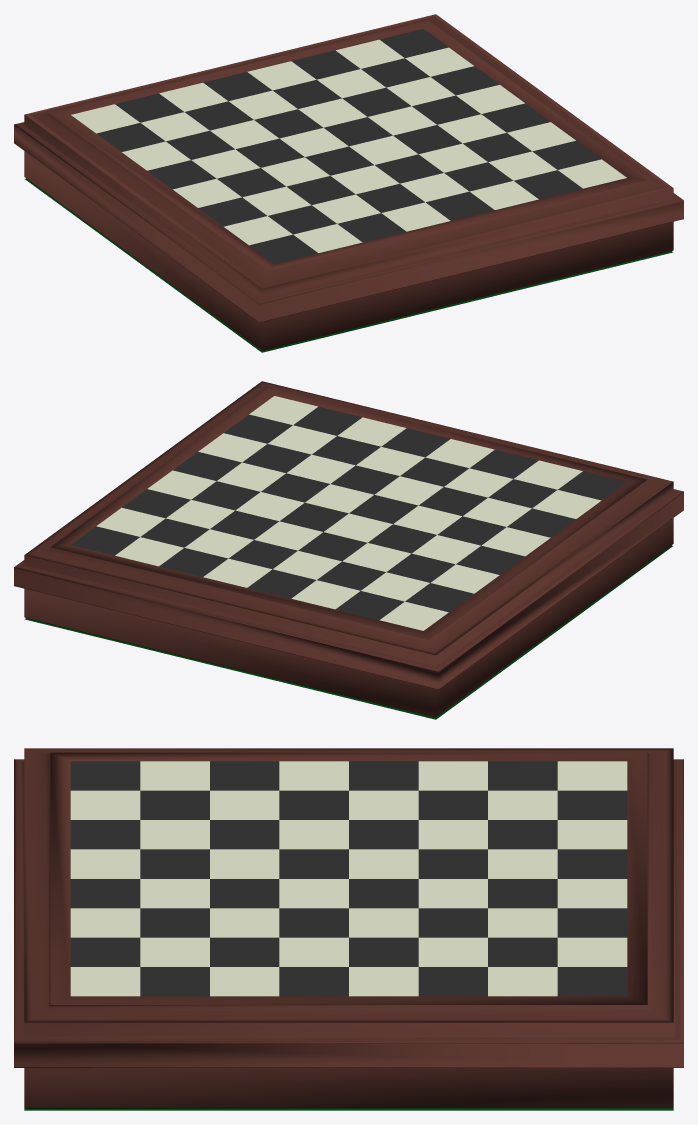
Rendered from chess board.glb.
The picture shows the model from 3 angles, top to bottom: view 1: azimuth 30°, elevation 25°; view 2: azimuth 150°, elevation 25°; view 3: azimuth 270°, elevation 25°; orthographic projection. The views are drawn at different scales.
Parts seen in each view (by area): view 1: Board Surround; view 2: Board Surround; view 3: Board Surround.
Part boxes in pixels (bbox=[...]): Board Surround: bbox=[14, 14, 683, 352]; Board Surround: bbox=[14, 381, 683, 719]; Board Surround: bbox=[14, 748, 683, 1110].
Bounding box in the file's own units: 2.16 × 0.3363 × 2.16.
